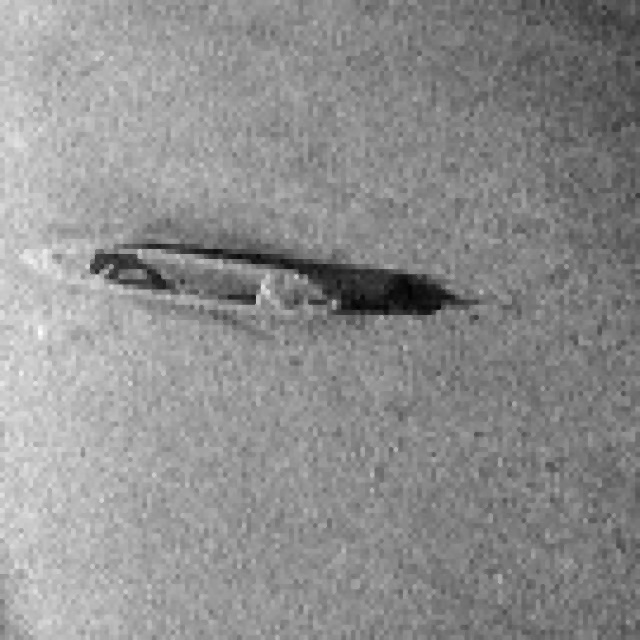Ship: (12, 219, 355, 348)
